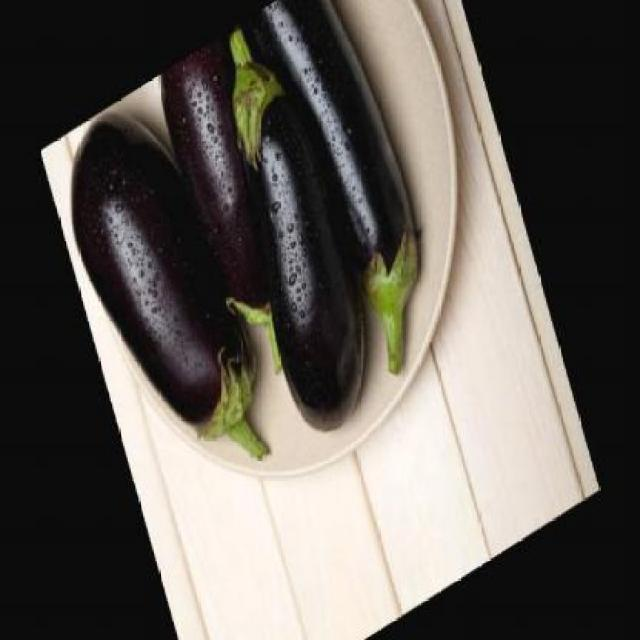eggplant: (47, 64, 284, 527), (192, 0, 394, 451), (236, 0, 451, 412), (151, 22, 334, 400)
